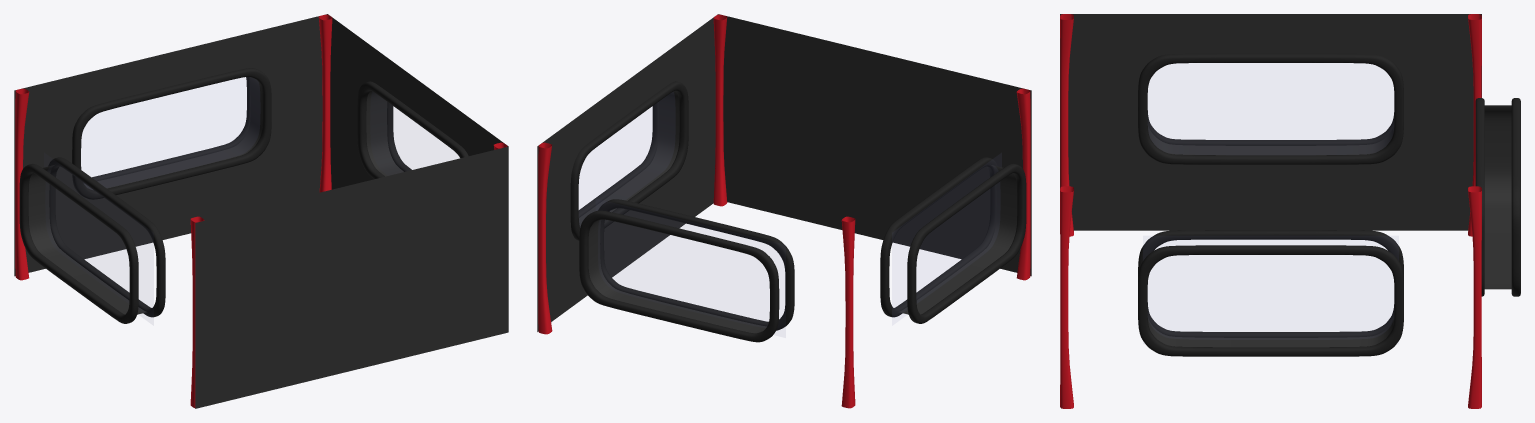
The model's file is Room.fbx.
The picture shows the model from 3 angles, left to right: view 1: azimuth 30°, elevation 25°; view 2: azimuth 150°, elevation 25°; view 3: azimuth 270°, elevation 25°; orthographic projection. The views are drawn at different scales.
Visible parts, largest first — view 1: room; view 2: room; view 3: room.
Part boxes in pixels (x1=…): room: x1=14, y1=14, x2=508, y2=408; room: x1=537, y1=14, x2=1031, y2=408; room: x1=1060, y1=14, x2=1520, y2=408.
Bounding box in the file's own units: 711 × 340 × 655.
